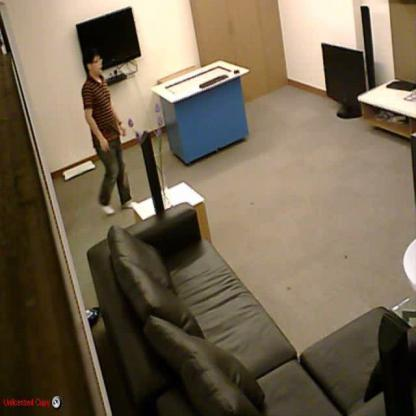Person: (82, 49, 139, 215)
